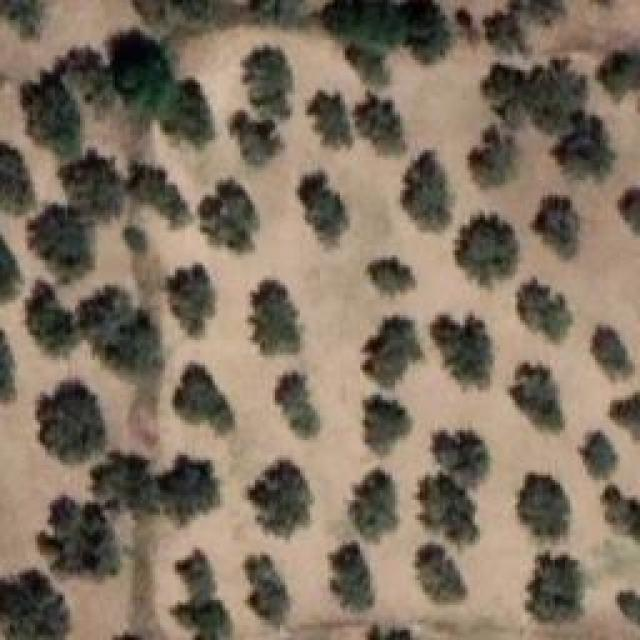Tree: (78, 288, 163, 375), (38, 495, 118, 575), (35, 380, 106, 463), (173, 550, 236, 640), (23, 73, 83, 160), (28, 205, 94, 282), (248, 460, 313, 537), (90, 450, 162, 519), (0, 570, 70, 640), (455, 213, 520, 286), (430, 315, 493, 390), (60, 150, 125, 222), (553, 110, 617, 178), (200, 180, 260, 252), (363, 315, 423, 387), (158, 78, 221, 145), (110, 34, 172, 102), (175, 364, 235, 434), (320, 0, 405, 49), (525, 553, 583, 622), (403, 150, 453, 230), (128, 163, 189, 227), (25, 280, 76, 356), (163, 458, 220, 526), (418, 478, 476, 544), (248, 280, 299, 355), (298, 173, 348, 245), (518, 277, 573, 342), (168, 265, 217, 337), (480, 63, 530, 133), (350, 470, 399, 541), (510, 363, 560, 430), (535, 63, 587, 127), (518, 472, 569, 537), (415, 543, 468, 604), (248, 555, 291, 627), (468, 125, 517, 188), (532, 195, 580, 258), (435, 430, 488, 487), (330, 543, 375, 610), (275, 372, 321, 437), (355, 90, 403, 152), (363, 395, 412, 455), (248, 45, 294, 106), (228, 115, 282, 165), (404, 0, 448, 61), (308, 90, 354, 148), (0, 143, 35, 216), (55, 43, 102, 95), (343, 43, 392, 90), (593, 325, 634, 380), (597, 50, 640, 100), (602, 485, 640, 540), (580, 430, 619, 478), (370, 258, 415, 296), (0, 0, 44, 37), (485, 15, 526, 53), (610, 392, 640, 440), (617, 187, 640, 234), (527, 0, 565, 24), (123, 225, 153, 255), (615, 588, 640, 623), (452, 7, 477, 34)
